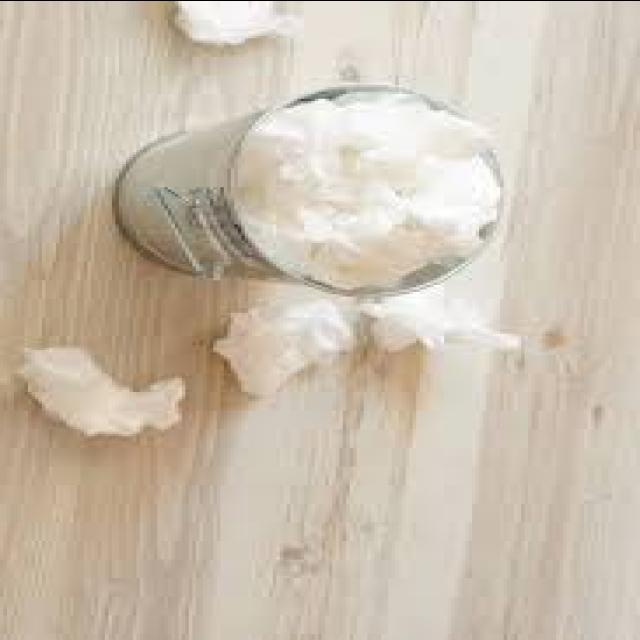tissue: (25, 346, 182, 435), (213, 297, 353, 393), (370, 290, 516, 350), (175, 0, 304, 44)
